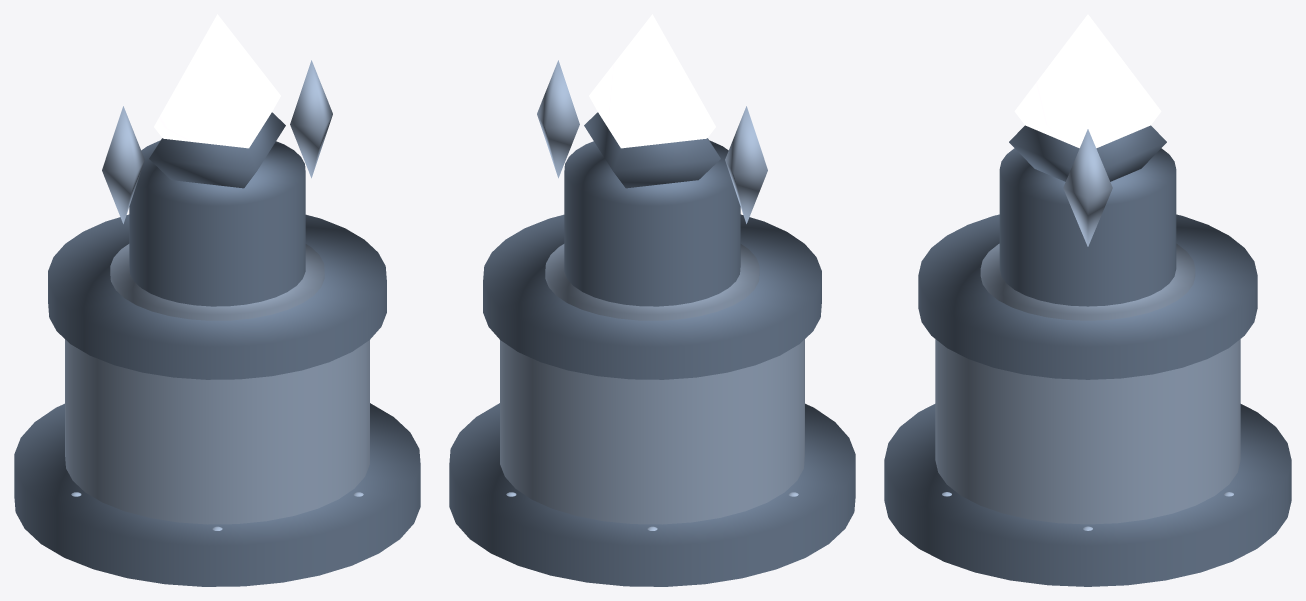
The model's file is arcane_l4.glb.
The picture shows the model from 3 angles, left to right: view 1: azimuth 30°, elevation 25°; view 2: azimuth 150°, elevation 25°; view 3: azimuth 270°, elevation 25°; orthographic projection.
Parts seen in each view (by area): view 1: base, footing, baseCollar, shaft, spinCrystal, support, lowerTrim, shardR, shardL; view 2: base, footing, baseCollar, shaft, spinCrystal, support, lowerTrim, shardR, shardL; view 3: base, footing, baseCollar, shaft, spinCrystal, lowerTrim, support, shardR.
Boxes of the visible parts, x1=… form: base: x1=65, y1=339, x2=369, y2=524; footing: x1=14, y1=403, x2=420, y2=586; baseCollar: x1=48, y1=214, x2=386, y2=379; shaft: x1=129, y1=140, x2=305, y2=306; spinCrystal: x1=154, y1=14, x2=280, y2=148; support: x1=149, y1=112, x2=285, y2=188; lowerTrim: x1=110, y1=244, x2=324, y2=320; shardR: x1=290, y1=60, x2=332, y2=178; shardL: x1=102, y1=106, x2=144, y2=223; base: x1=500, y1=339, x2=804, y2=524; footing: x1=449, y1=403, x2=855, y2=586; baseCollar: x1=483, y1=214, x2=821, y2=379; shaft: x1=564, y1=140, x2=740, y2=306; spinCrystal: x1=589, y1=14, x2=715, y2=148; support: x1=584, y1=112, x2=720, y2=188; lowerTrim: x1=545, y1=244, x2=759, y2=320; shardR: x1=537, y1=60, x2=579, y2=178; shardL: x1=725, y1=106, x2=767, y2=223; base: x1=935, y1=339, x2=1240, y2=524; footing: x1=884, y1=404, x2=1291, y2=586; baseCollar: x1=918, y1=214, x2=1257, y2=379; shaft: x1=999, y1=148, x2=1176, y2=306; spinCrystal: x1=1014, y1=14, x2=1161, y2=148; lowerTrim: x1=980, y1=243, x2=1195, y2=320; support: x1=1009, y1=125, x2=1166, y2=181; shardR: x1=1063, y1=129, x2=1112, y2=246.
Size of the model in its own units: 1.8 by 2.38 by 1.8.
